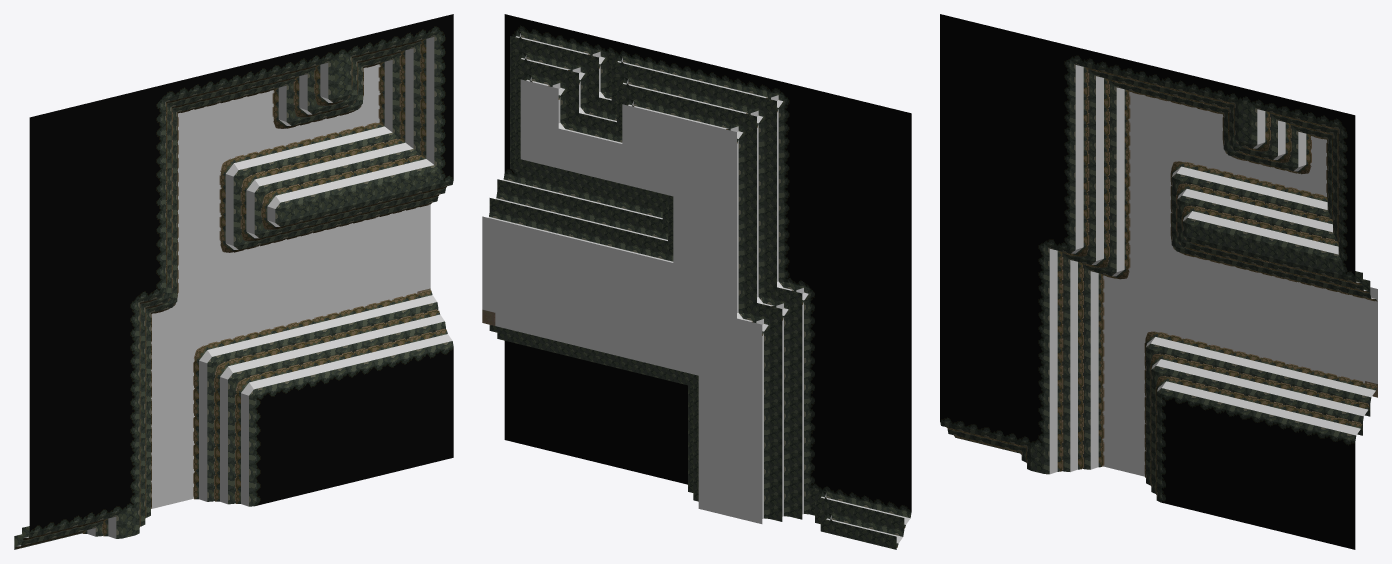
The model's file is Victory-Road-2_07_07.obj.
3 views of the same model, side by side, from view 1: azimuth 30°, elevation 25°; view 2: azimuth 150°, elevation 25°; view 3: azimuth 330°, elevation 25° (orthographic). The views are drawn at different scales.
Visible parts, largest first — view 1: map; view 2: map; view 3: map.
Part boxes in pixels (x1,y1,x2,y2): map: [14, 14, 453, 549]; map: [482, 14, 911, 549]; map: [940, 14, 1377, 549].
Bounding box in the file's own units: 32 × 32 × 3.
